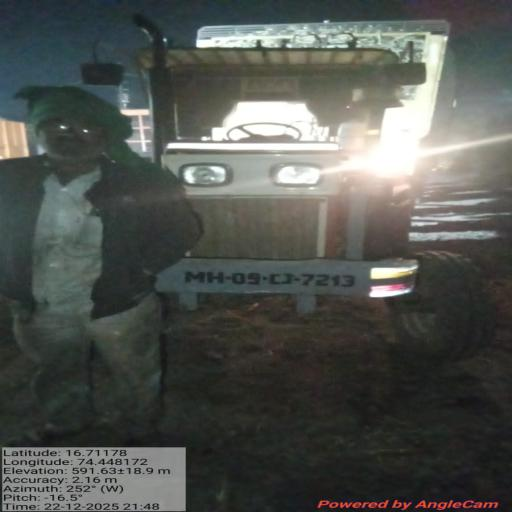number_plate: (167, 262, 374, 296)
